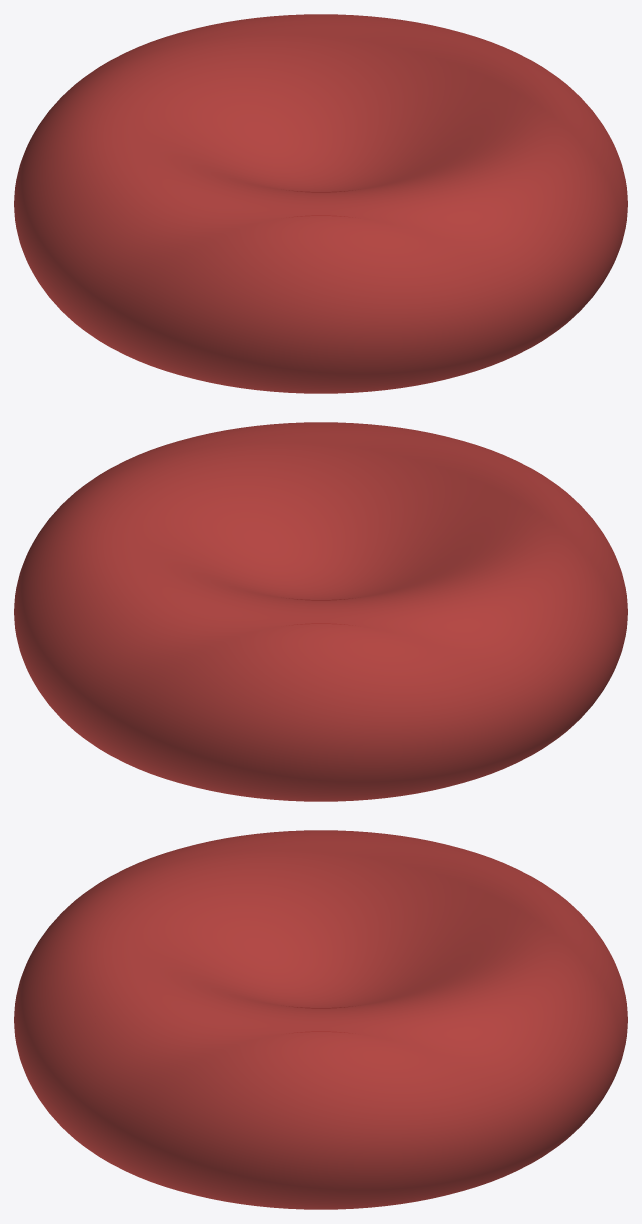
Rendered from rbc.raw.glb.
3 views of the same model, one above another, from view 1: azimuth 30°, elevation 25°; view 2: azimuth 150°, elevation 25°; view 3: azimuth 270°, elevation 25° (orthographic).
Parts seen in each view (by area): view 1: rbc_lod0; view 2: rbc_lod0; view 3: rbc_lod0.
Part boxes in pixels (x1=…): rbc_lod0: x1=14, y1=14, x2=627, y2=393; rbc_lod0: x1=14, y1=422, x2=627, y2=801; rbc_lod0: x1=14, y1=830, x2=627, y2=1209.
Size of what is drawn, in the model's own units: 7.82 by 2.56 by 7.82.
